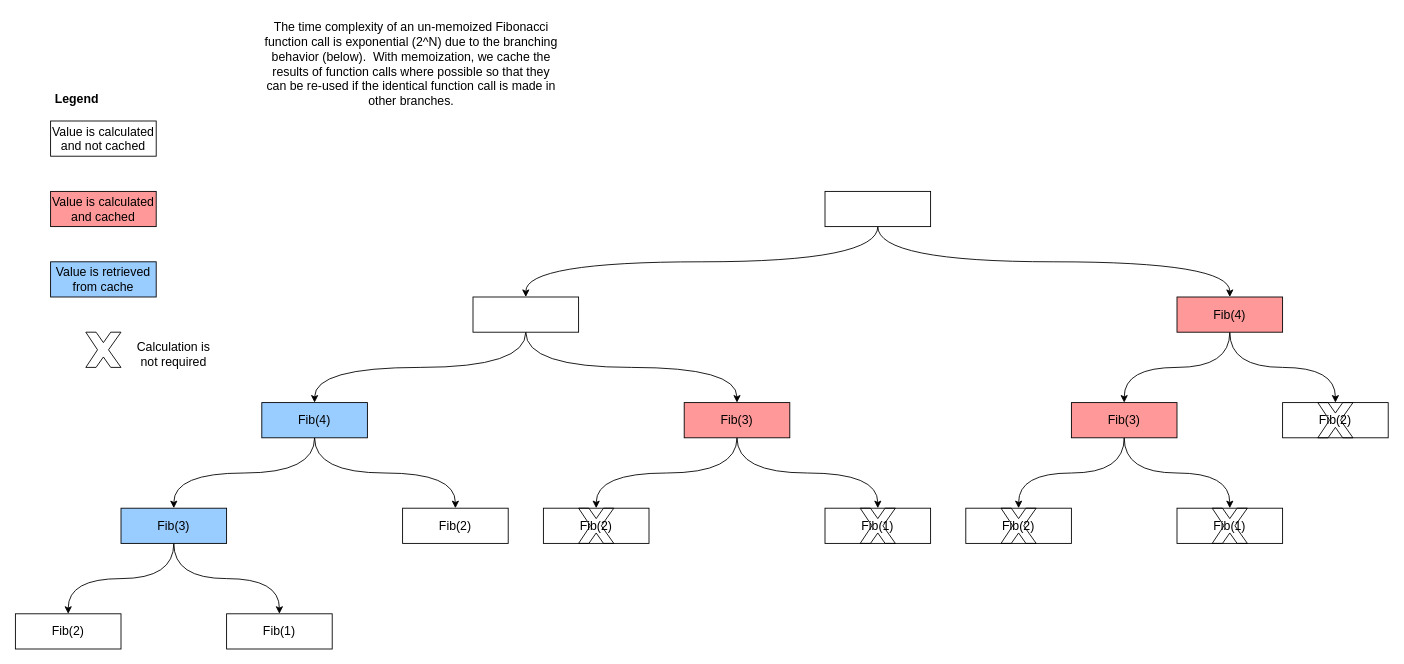
Image size: 1404x664. Some labels were removed from this diagram. The shapes that lost their labels are listed below. From the top down, each one's centre as x and y in pixels, then its label:
the point at 877,209: Fib(6)
the point at 525,314: Fib(5)
